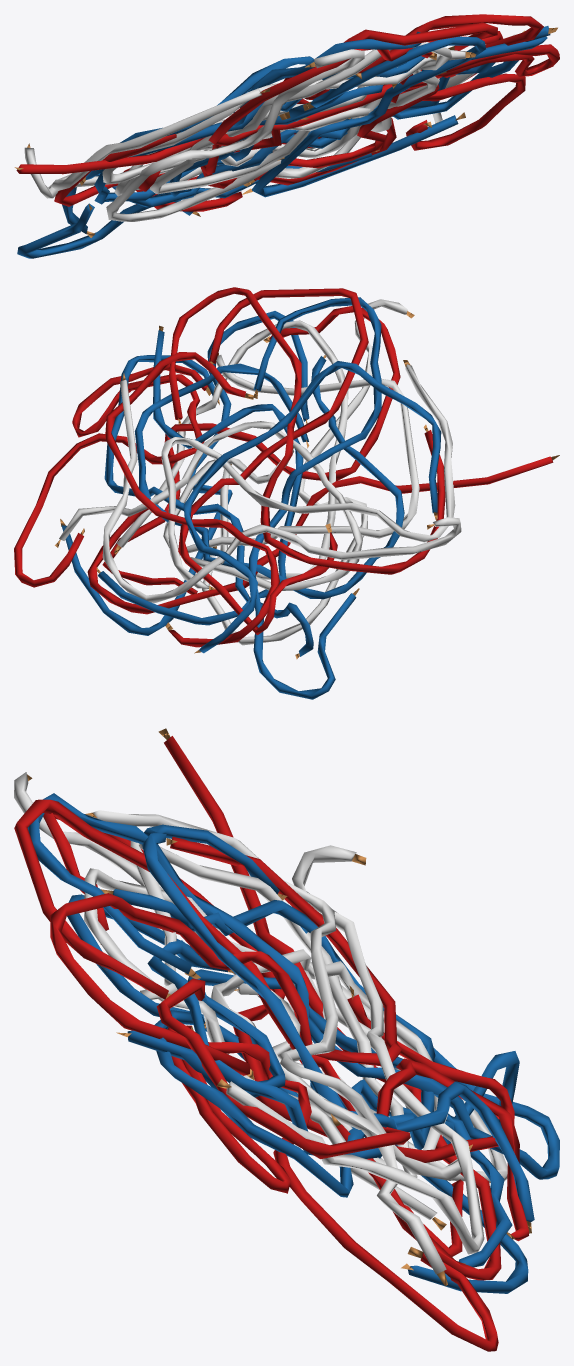
Rendered from Wires.fbx.
3 views of the same model, one above another, from view 1: azimuth 30°, elevation 25°; view 2: azimuth 150°, elevation 25°; view 3: azimuth 270°, elevation 25° (orthographic). The views are drawn at different scales.
Parts seen in each view (by area): view 1: Electric wires; view 2: Electric wires; view 3: Electric wires.
Part boxes in pixels (x1=…): Electric wires: x1=14, y1=14, x2=559, y2=258; Electric wires: x1=14, y1=287, x2=559, y2=699; Electric wires: x1=14, y1=728, x2=559, y2=1351.
Bounding box in the file's own units: 0.5134 × 0.2845 × 0.3193.
1 material, 1 textured.
